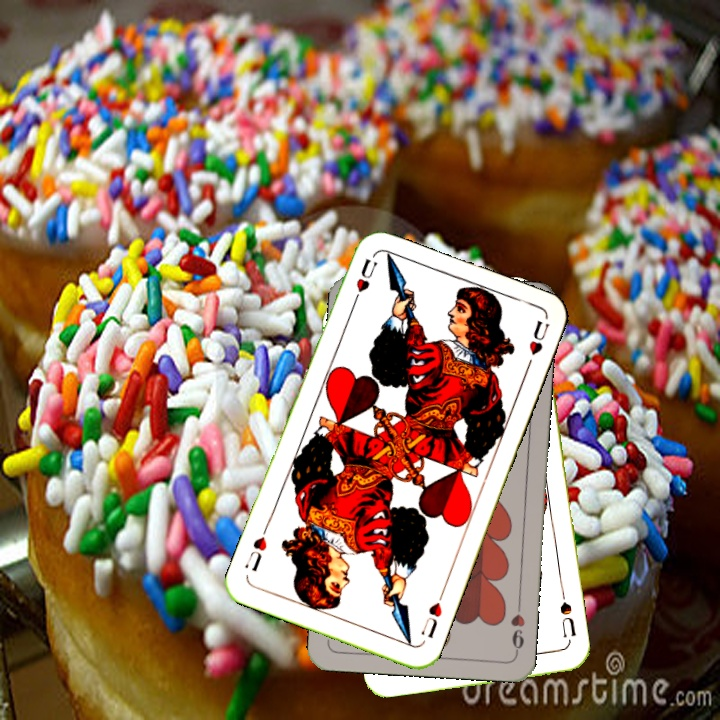H9: (506, 596, 527, 656)
HU: (348, 254, 380, 309), (417, 598, 445, 641)
SU: (555, 598, 578, 647)
